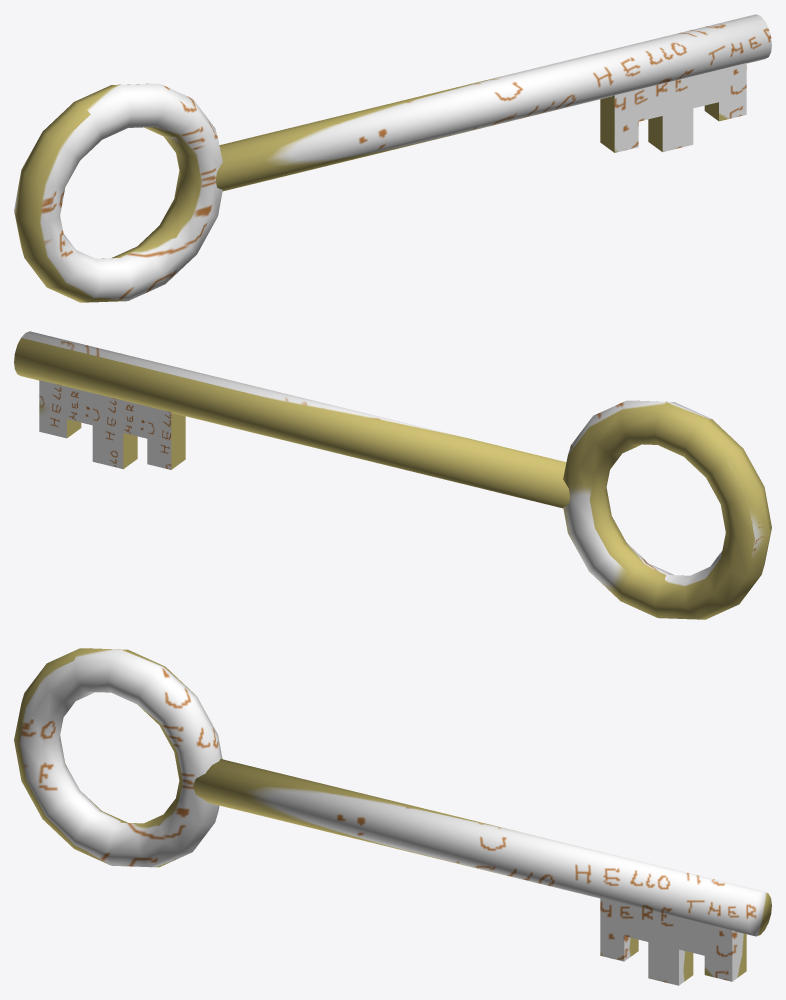
The model's file is keyTextured.glb.
3 views of the same model, one above another, from view 1: azimuth 30°, elevation 25°; view 2: azimuth 150°, elevation 25°; view 3: azimuth 330°, elevation 25° (orthographic).
Parts seen in each view (by area): view 1: Key; view 2: Key; view 3: Key.
Boxes of the visible parts, x1,y1,x2,y2 form: Key: (14, 14, 771, 302); Key: (14, 331, 771, 619); Key: (14, 648, 771, 985).
Bounding box in the file's own units: 0.1283 × 0.0356 × 0.00713.
Materials: 1 (1 with a texture image).
